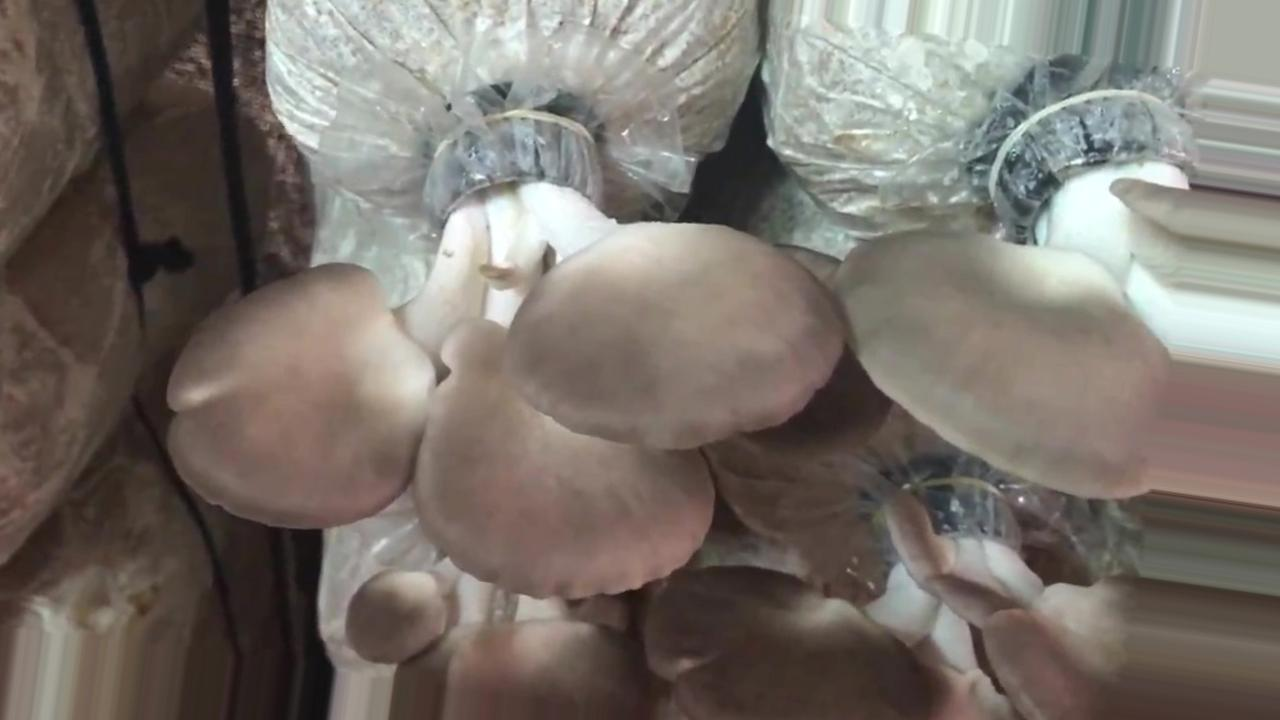nam: (170, 112, 845, 596), (838, 92, 1280, 498), (643, 481, 1277, 720), (346, 559, 648, 720)
